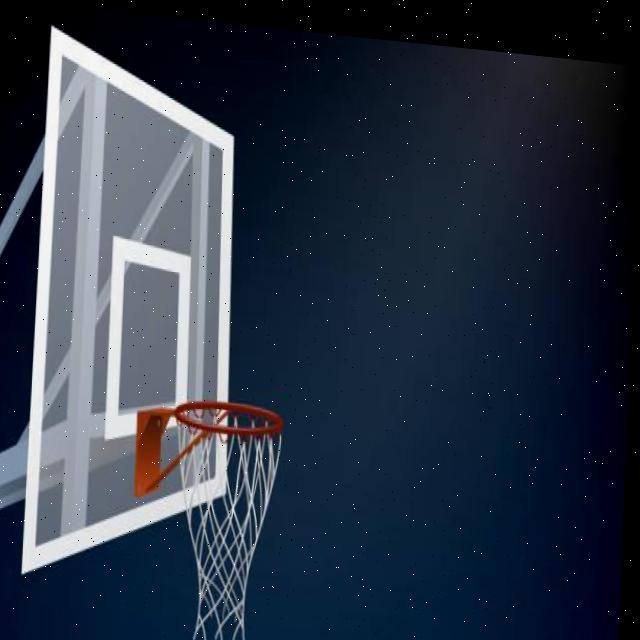hoop: (166, 397, 285, 640)
